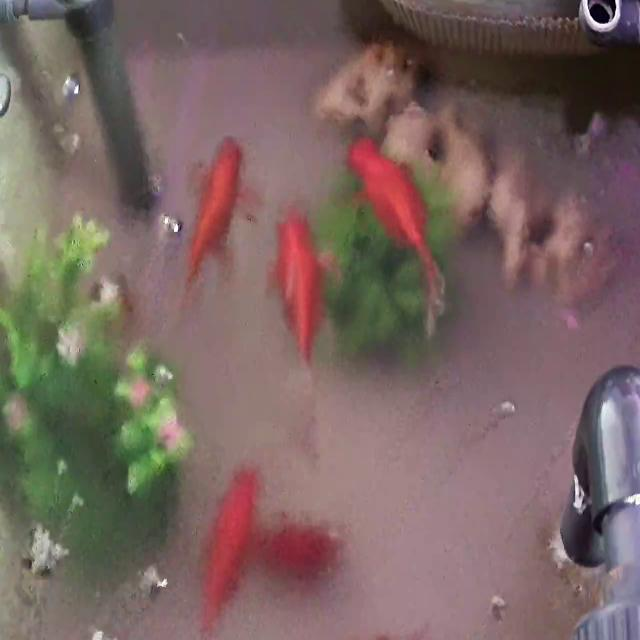fish: (350, 134, 445, 330), (184, 133, 246, 299), (199, 464, 259, 633), (278, 205, 331, 374), (260, 520, 344, 580)
